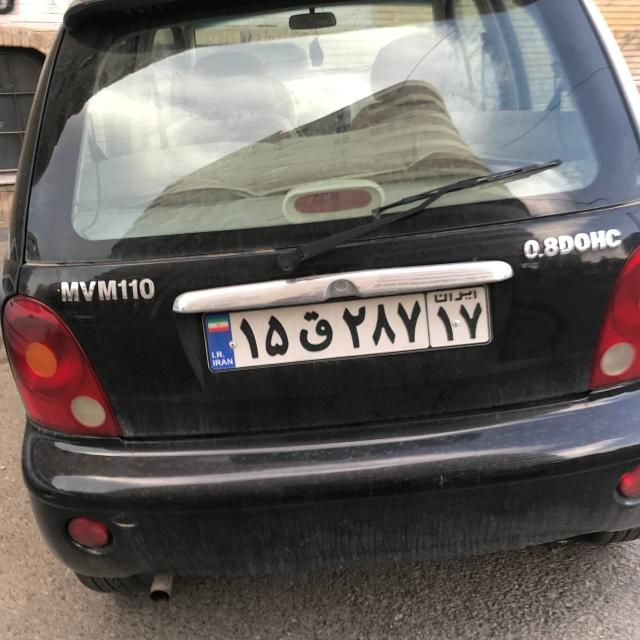Plates: (204, 285, 491, 371)
